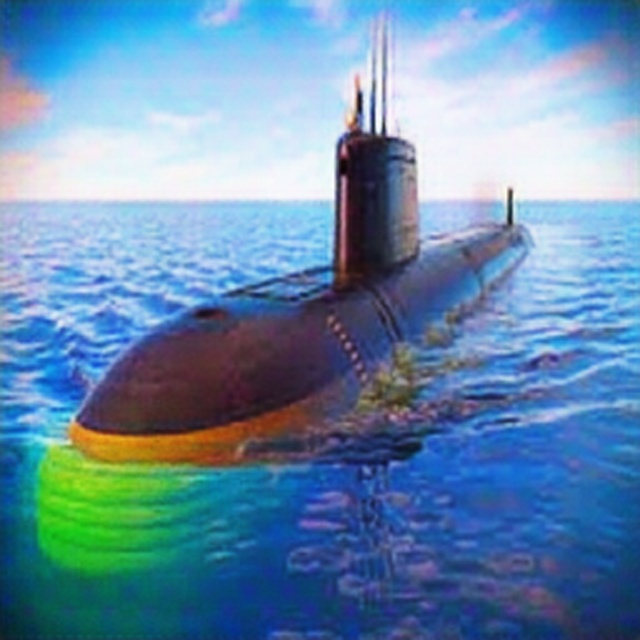submarine: (74, 72, 541, 442)
